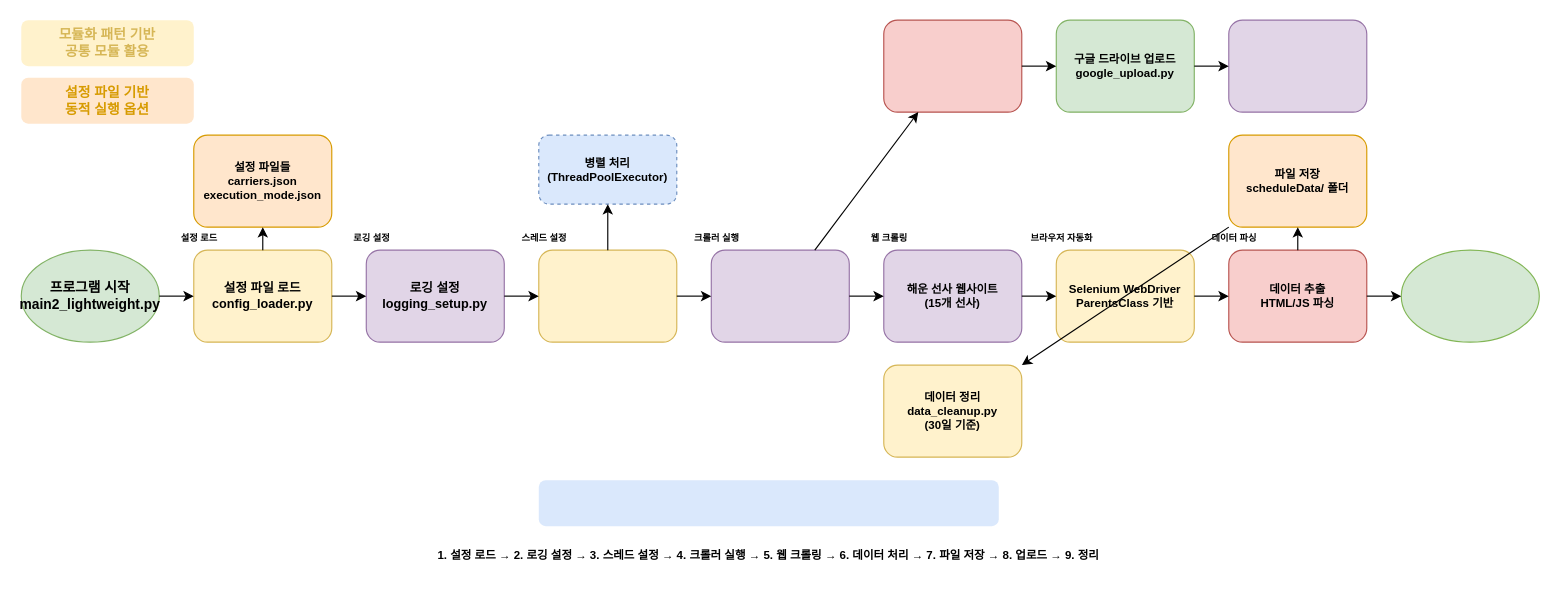
The diagram is 1559 pixels wide and 592 high, and some of its shapes have lost their labels. The centre of each missing label's shape, as x and y in pixels:
"v3.4.0 - 모듈화된 데이터 플로우" belongs at [768,503].
"스레드 설정 ThreadPoolExecutor (설정 파일 기반)" belongs at [607,295].
"에러로그 업로드 오늘 날짜 로그" belongs at [1297,65].
"엑셀 로그 생성 excel_logger.py" belongs at [952,65].
"크롤러 실행 crawler_executor.py" belongs at [779,295].
"프로세스 완료" belongs at [1469,295].
